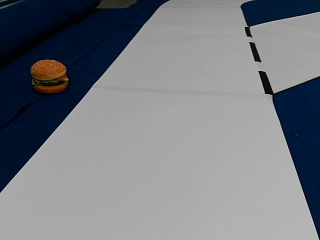burger: (29, 58, 68, 92)
